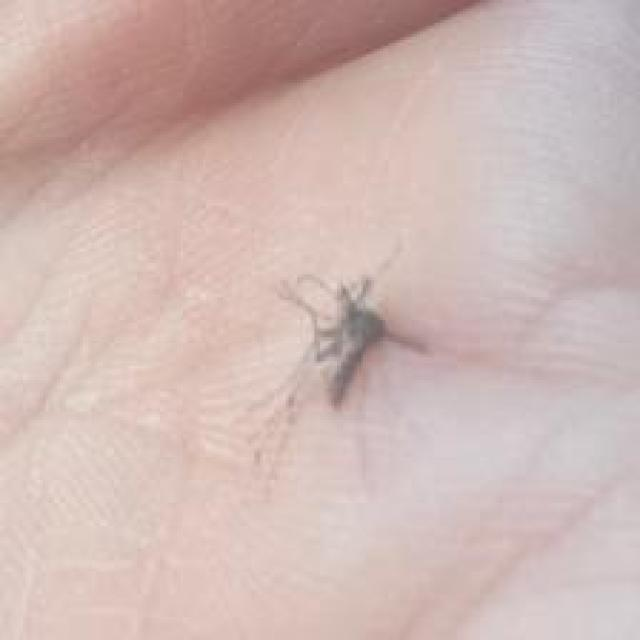Aedes albopictus: (243, 240, 428, 497)
